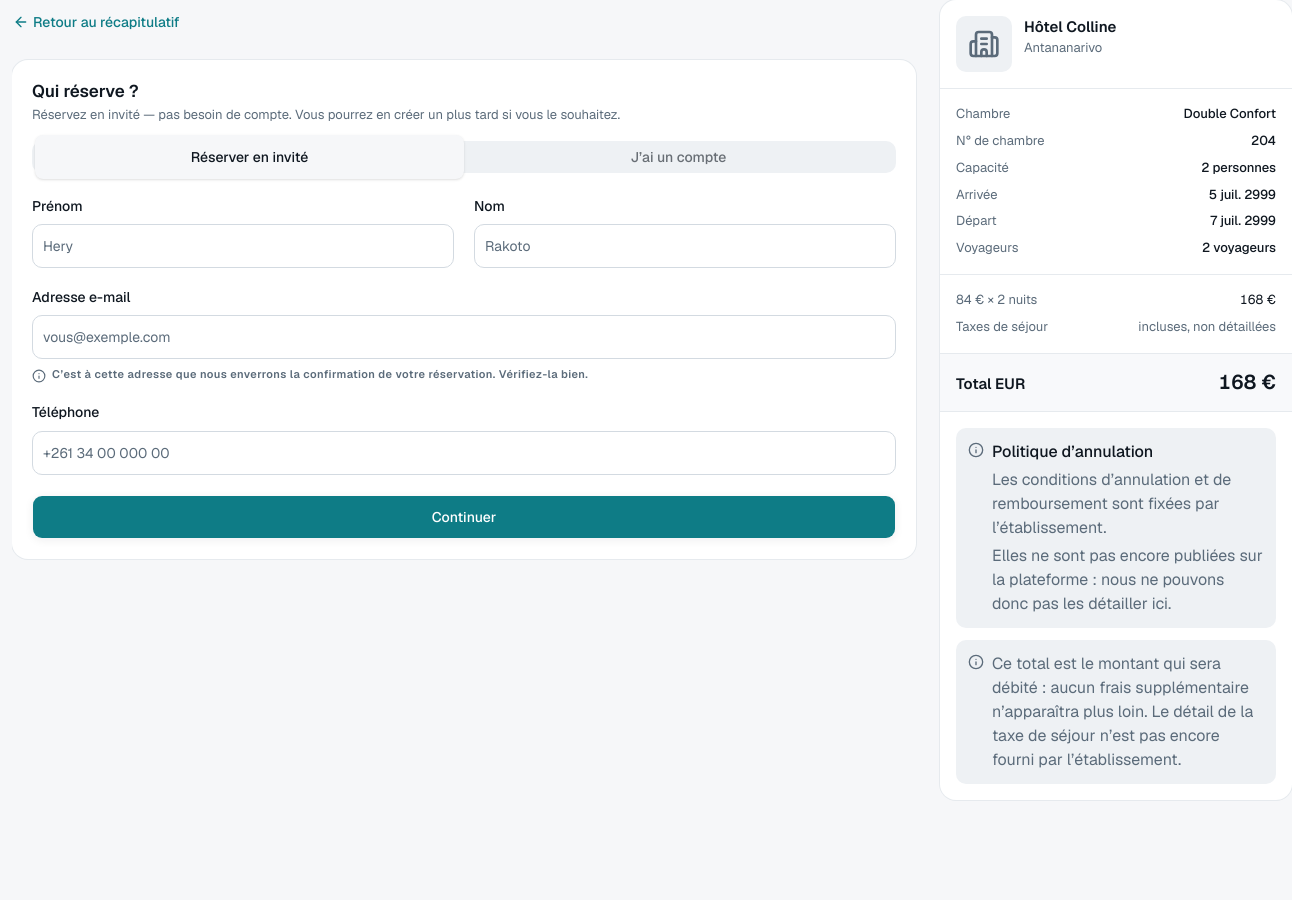
Scenario: BookingIdentify (intégration — story 2.3) › rappelle l’adresse saisie au niveau du CTA (AC-4)
Expected: the form with test id "guest-form" is shown, [32,197,896,539]
In the field with test id "guest-email": [464, 337] box [32,315,896,359], type "Relu@Example.com"
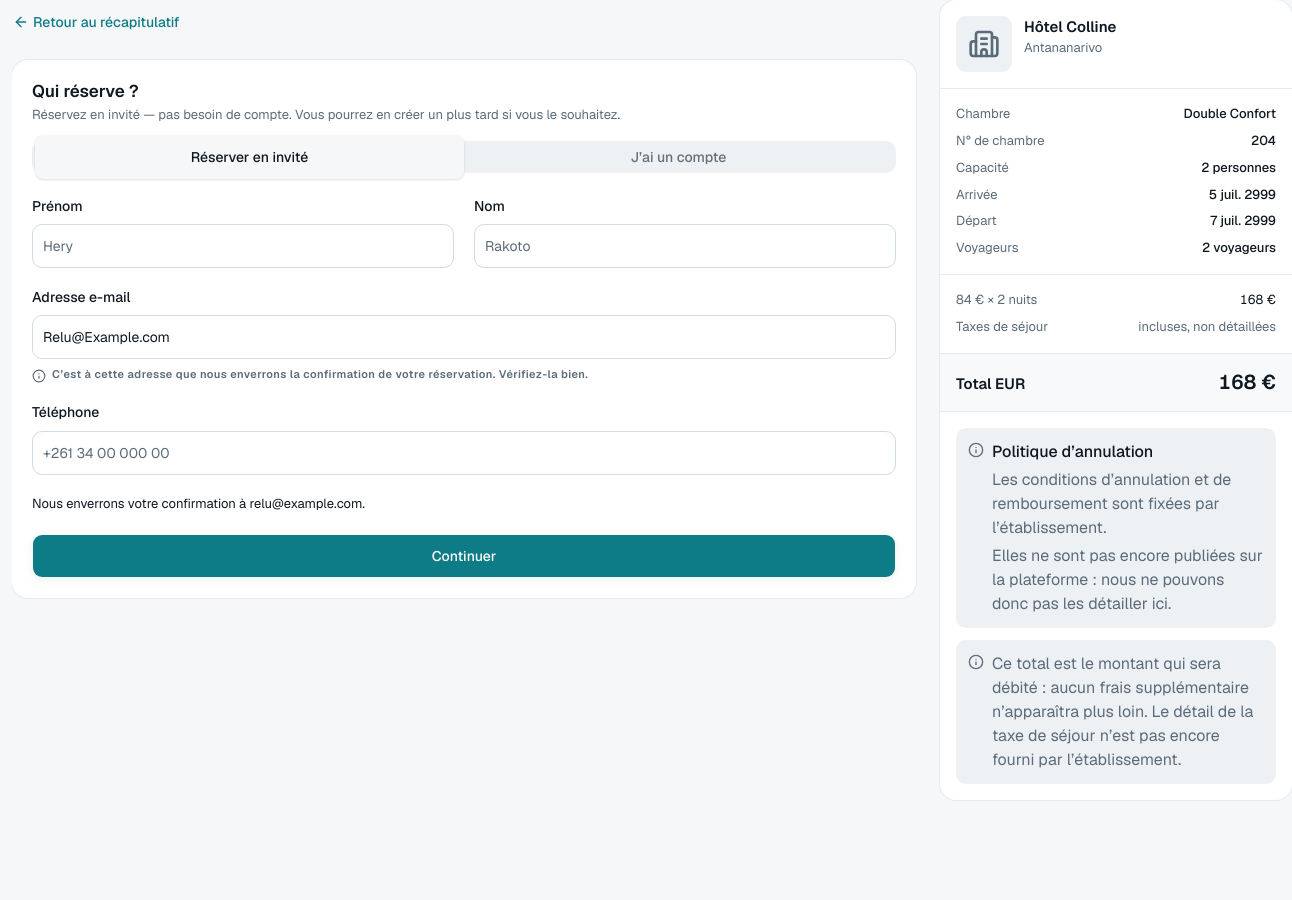
Expected: the text with test id "guest-confirmation-recap" shows "relu@example.com", [32,495,365,512]
